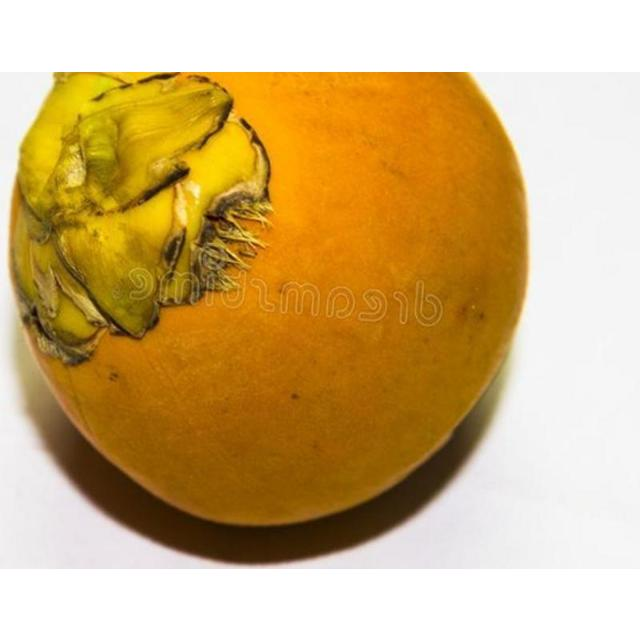good: (7, 71, 531, 530)
